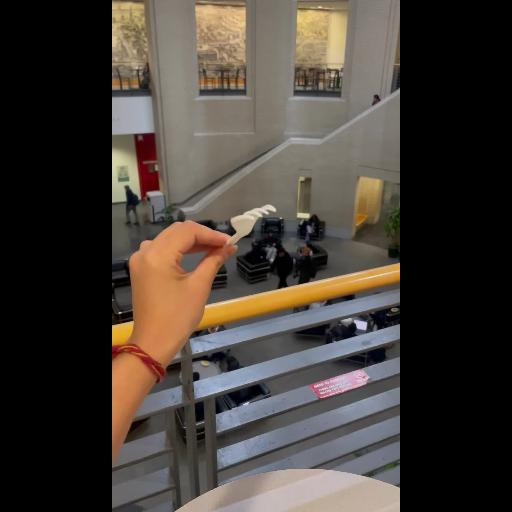utensil: (223, 204, 279, 248)
